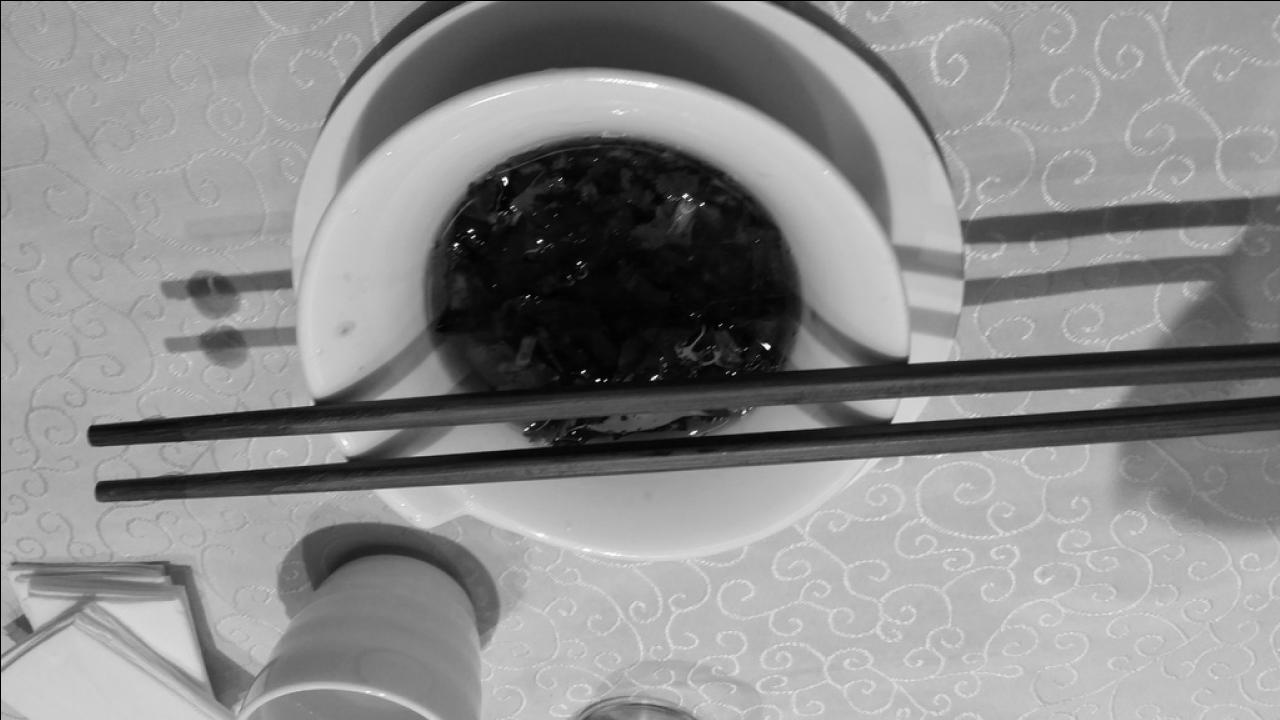chopstick: (85, 338, 1280, 505)
